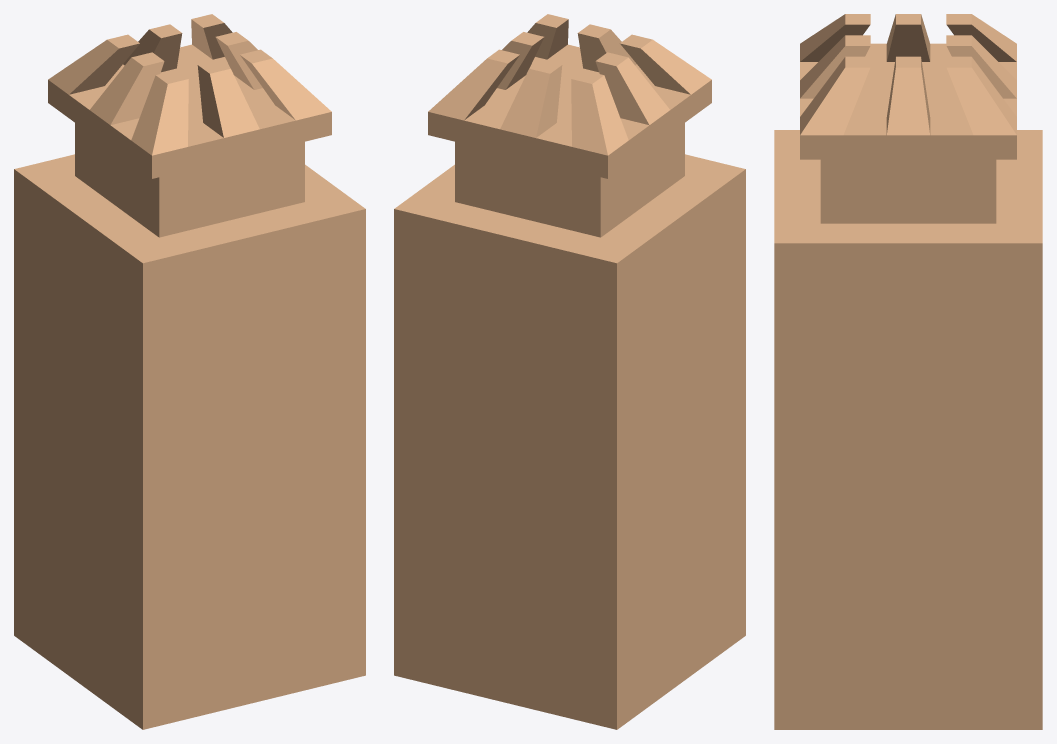
File: queen_white.fbx
The picture shows the model from 3 angles, left to right: view 1: azimuth 30°, elevation 25°; view 2: azimuth 150°, elevation 25°; view 3: azimuth 270°, elevation 25°; orthographic projection. The views are drawn at different scales.
Visible parts, largest first — view 1: Cube.008; view 2: Cube.008; view 3: Cube.008.
Boxes of the visible parts, x1=… form: Cube.008: x1=14, y1=14, x2=365, y2=729; Cube.008: x1=394, y1=14, x2=745, y2=729; Cube.008: x1=774, y1=14, x2=1042, y2=729.
Bounding box in the file's own units: 2.8 × 7.27 × 2.8.
